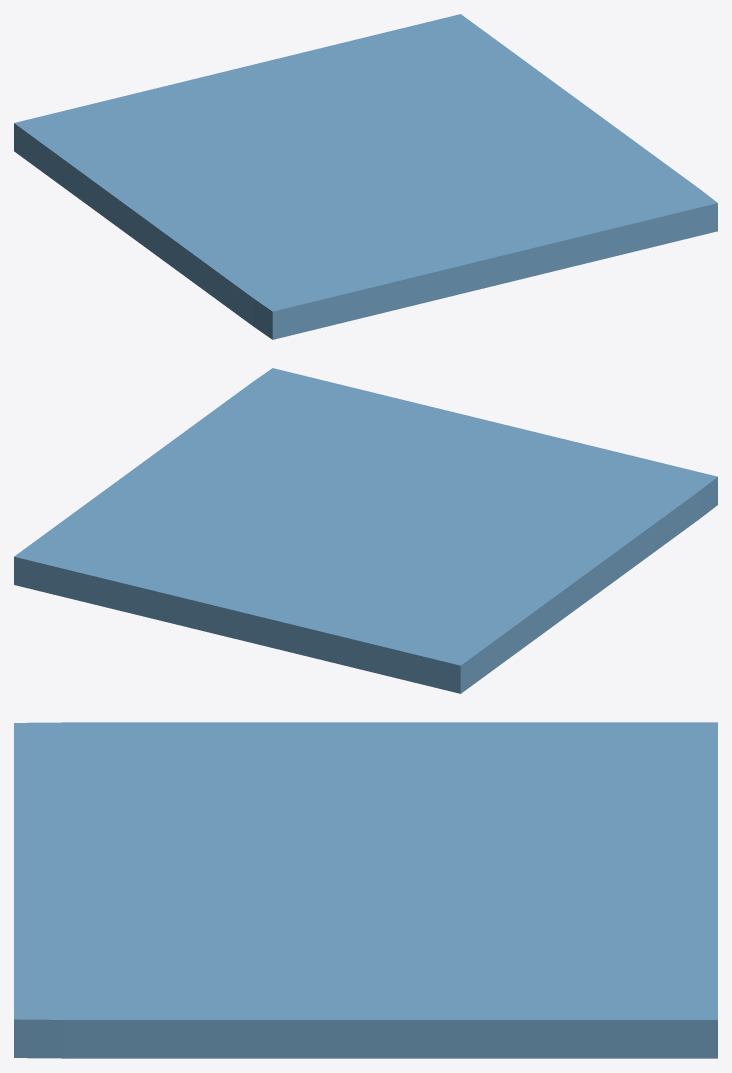
Rendered from q-street-street-empty-water.glb.
3 views of the same model, one above another, from view 1: azimuth 30°, elevation 25°; view 2: azimuth 150°, elevation 25°; view 3: azimuth 270°, elevation 25° (orthographic). The views are drawn at different scales.
Parts seen in each view (by area): view 1: Street_Water_Cube.036; view 2: Street_Water_Cube.036; view 3: Street_Water_Cube.036.
Part boxes in pixels (x1,y1,x2,y2): Street_Water_Cube.036: (14, 14, 717, 339); Street_Water_Cube.036: (14, 368, 717, 693); Street_Water_Cube.036: (14, 722, 717, 1058).
Bounding box in the file's own units: 2 × 0.1209 × 2.
